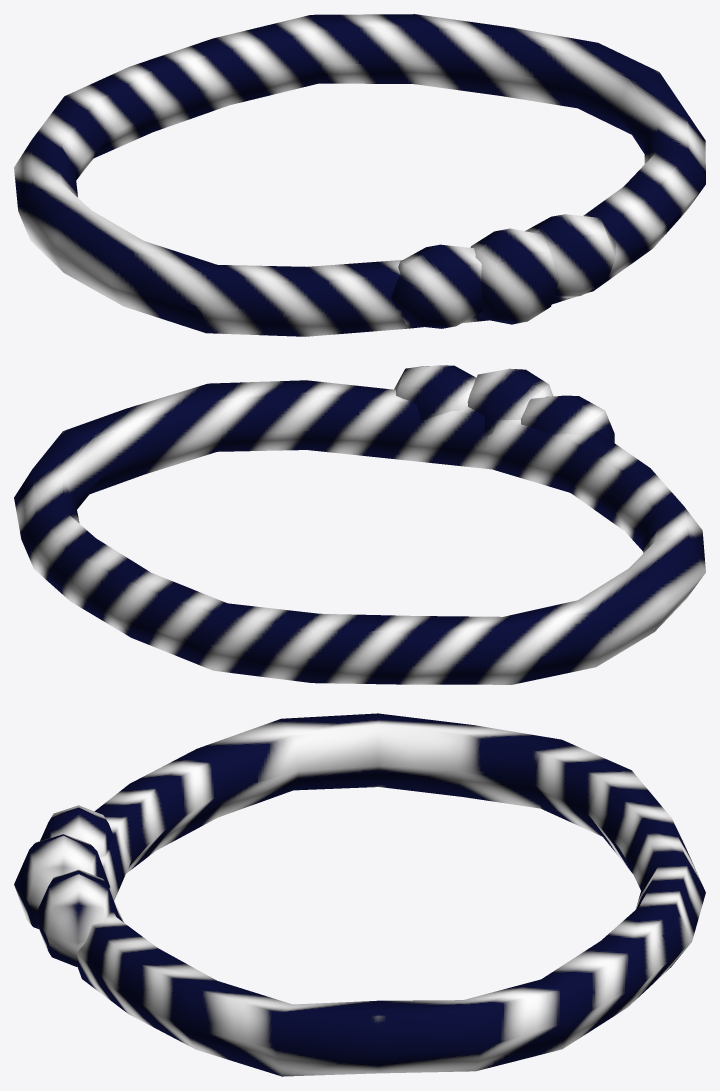
The model's file is hair_hachimaki.glb.
3 views of the same model, one above another, from view 1: azimuth 30°, elevation 25°; view 2: azimuth 150°, elevation 25°; view 3: azimuth 270°, elevation 25° (orthographic). The views are drawn at different scales.
Visible parts, largest first — view 1: hair_hachimaki; view 2: hair_hachimaki; view 3: hair_hachimaki.
Boxes of the visible parts, <box> form: hair_hachimaki: <box>14,14,705,336</box>; hair_hachimaki: <box>14,365,705,684</box>; hair_hachimaki: <box>14,713,705,1076</box>.
Size of the model in its own units: 0.4527 by 0.0664 by 0.4174.
1 material, 1 textured.
